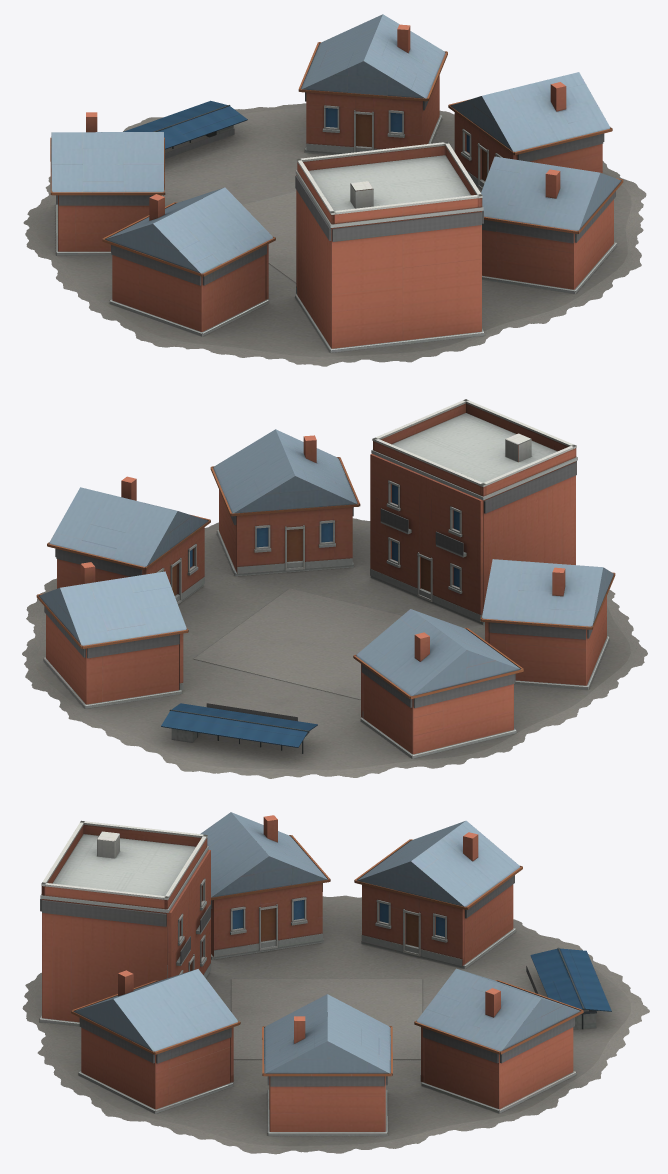
The model's file is modern-town-small-b-europe.glb.
3 views of the same model, one above another, from view 1: azimuth 30°, elevation 25°; view 2: azimuth 150°, elevation 25°; view 3: azimuth 270°, elevation 25° (orthographic).
Visible parts, largest first — view 1: LOD0; view 2: LOD0; view 3: LOD0.
Boxes of the visible parts, x1,y1,x2,y2 form: LOD0: [23, 14, 646, 366]; LOD0: [22, 399, 647, 778]; LOD0: [22, 812, 649, 1154].
Size of what is drawn, in the model's own units: 3.95 by 1.03 by 4.03.
Materials: 3 (3 with a texture image).
